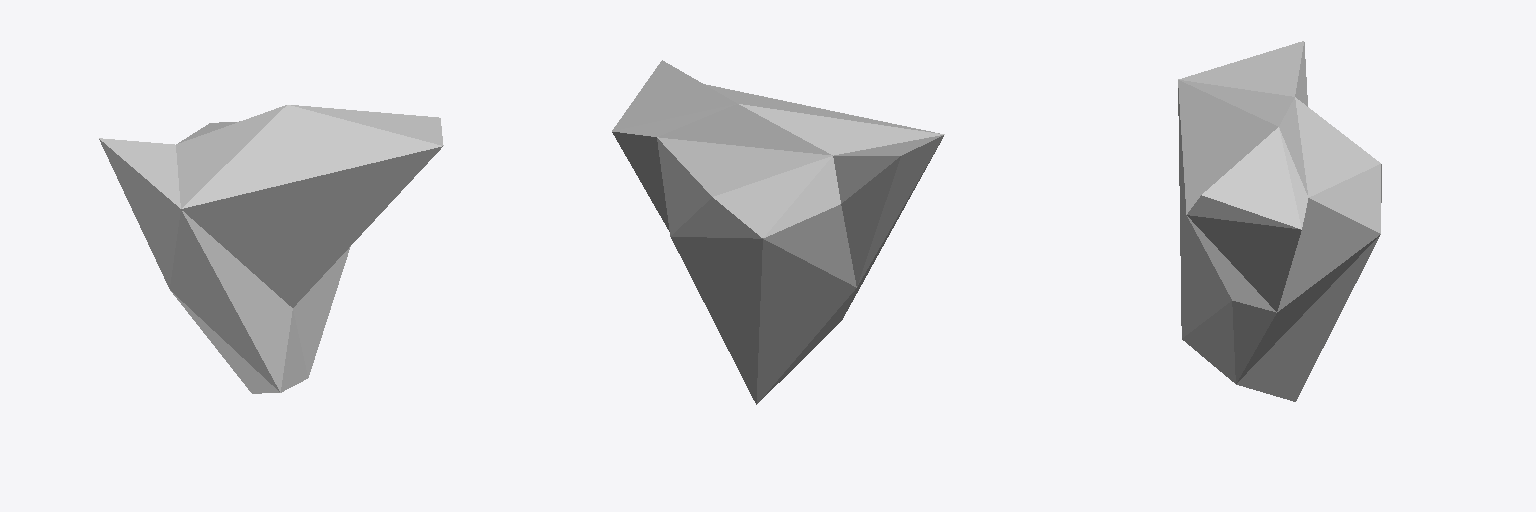
Rendered from sim_ecub_1-1_r_wrist_2.obj.
3 views of the same model, side by side, from view 1: azimuth 30°, elevation 25°; view 2: azimuth 150°, elevation 25°; view 3: azimuth 270°, elevation 25° (orthographic).
Bounding box in the file's own units: 31.97 × 30.36 × 19.43.